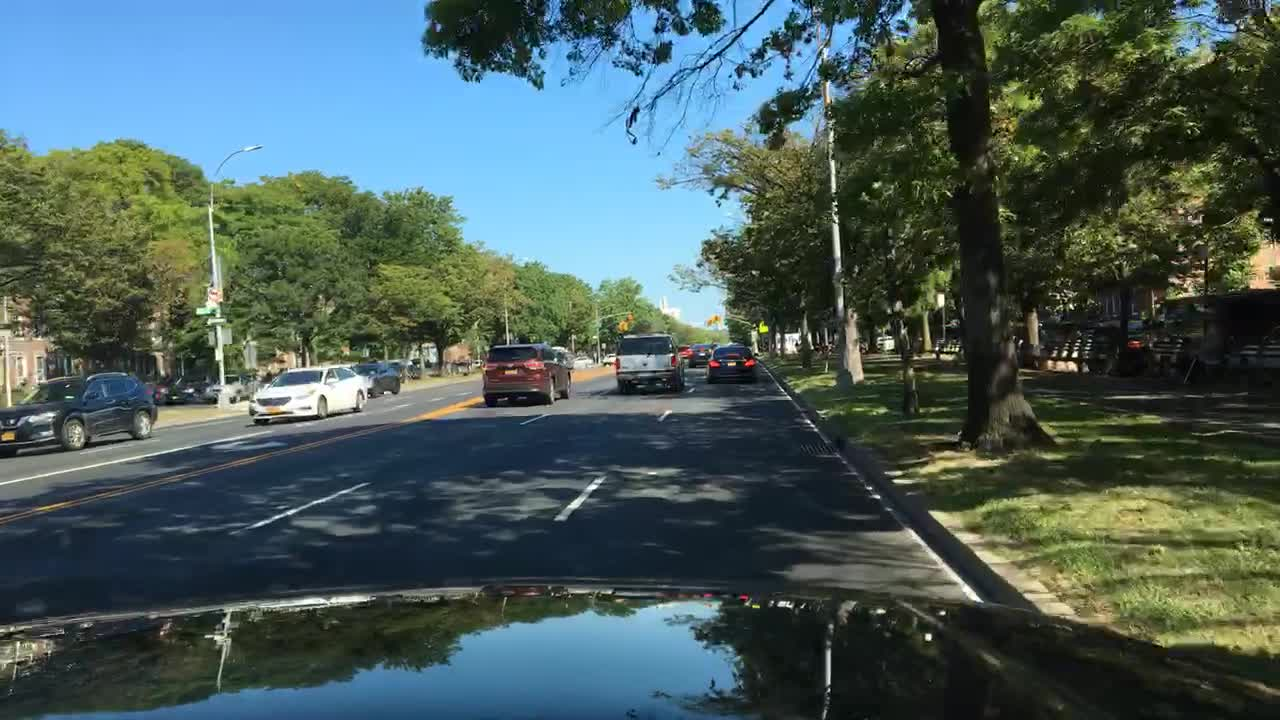car: (0, 370, 158, 455), (1158, 290, 1279, 374), (247, 364, 368, 425), (480, 341, 573, 406), (615, 331, 687, 394), (1091, 317, 1153, 371), (707, 345, 759, 385), (347, 361, 400, 396), (204, 373, 249, 402), (167, 372, 209, 403), (368, 356, 408, 383), (151, 374, 179, 405), (687, 342, 714, 369), (551, 346, 573, 364), (873, 335, 896, 350), (407, 355, 421, 378), (240, 376, 254, 396), (423, 360, 440, 376), (250, 374, 266, 391), (572, 356, 593, 368), (676, 344, 694, 357), (457, 360, 472, 375), (601, 353, 617, 365), (443, 360, 455, 376), (472, 358, 484, 368)
traffic light: (617, 321, 631, 332), (705, 317, 717, 326), (626, 313, 636, 322), (714, 313, 720, 323)
traffic sign: (206, 285, 219, 301), (206, 315, 227, 324), (219, 325, 230, 342), (213, 346, 225, 360), (194, 306, 214, 313), (759, 319, 770, 331), (205, 300, 221, 307)
